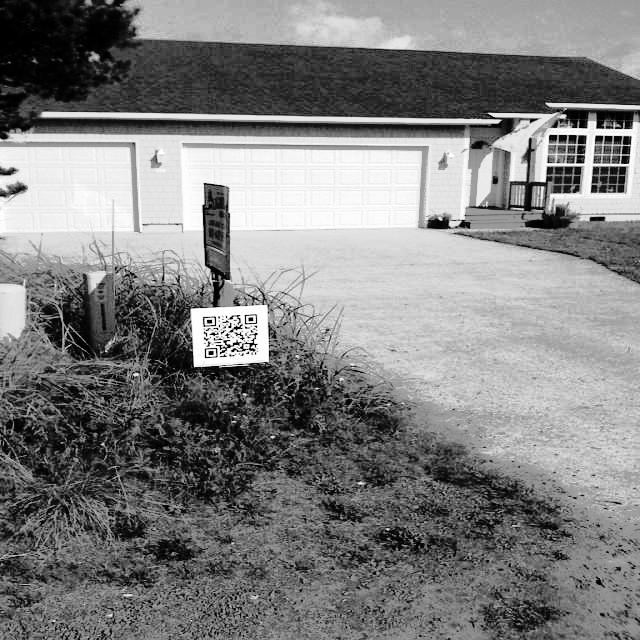qr_code: (203, 314, 259, 358)
